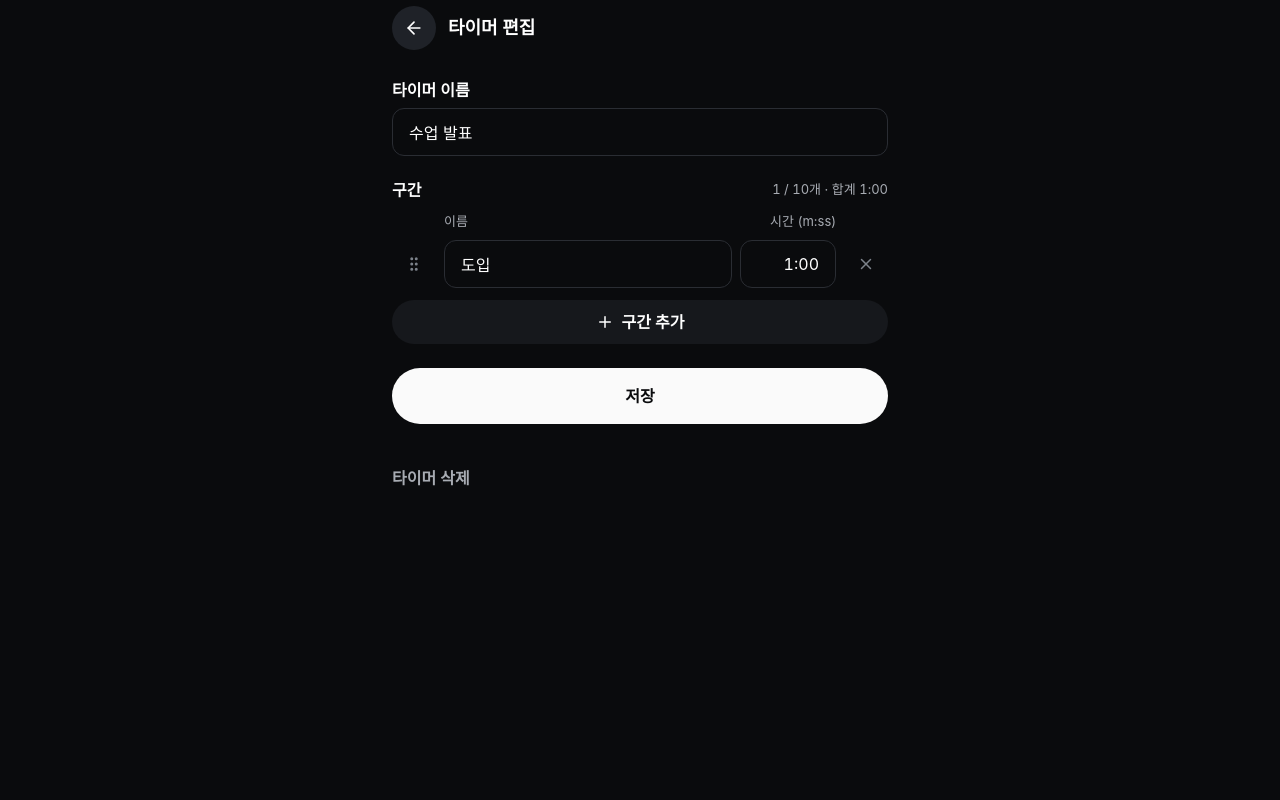
it: TimerEditor › keeps the timer when delete confirmation is canceled
Click the button "타이머 삭제" at (431, 478), box [392,456,470,500]
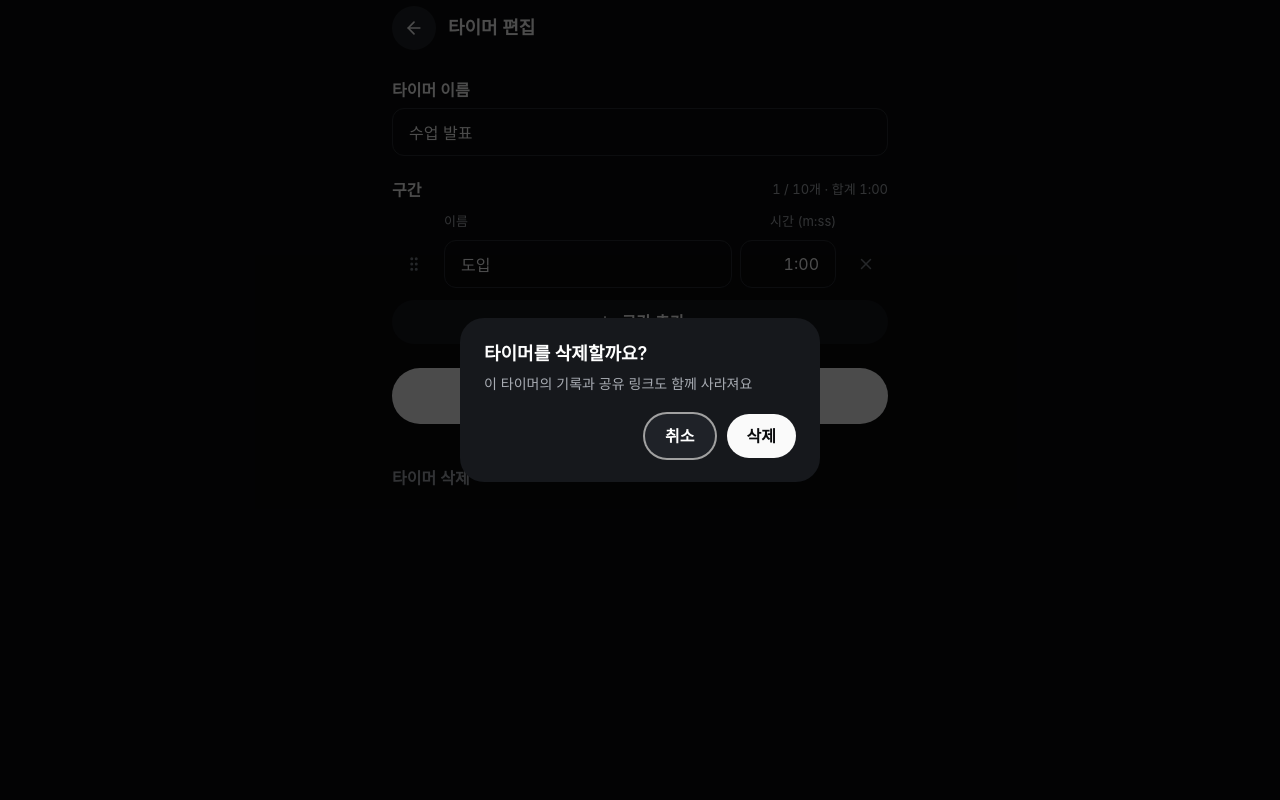
Click the button "취소" at (680, 436), box [645,414,715,458]
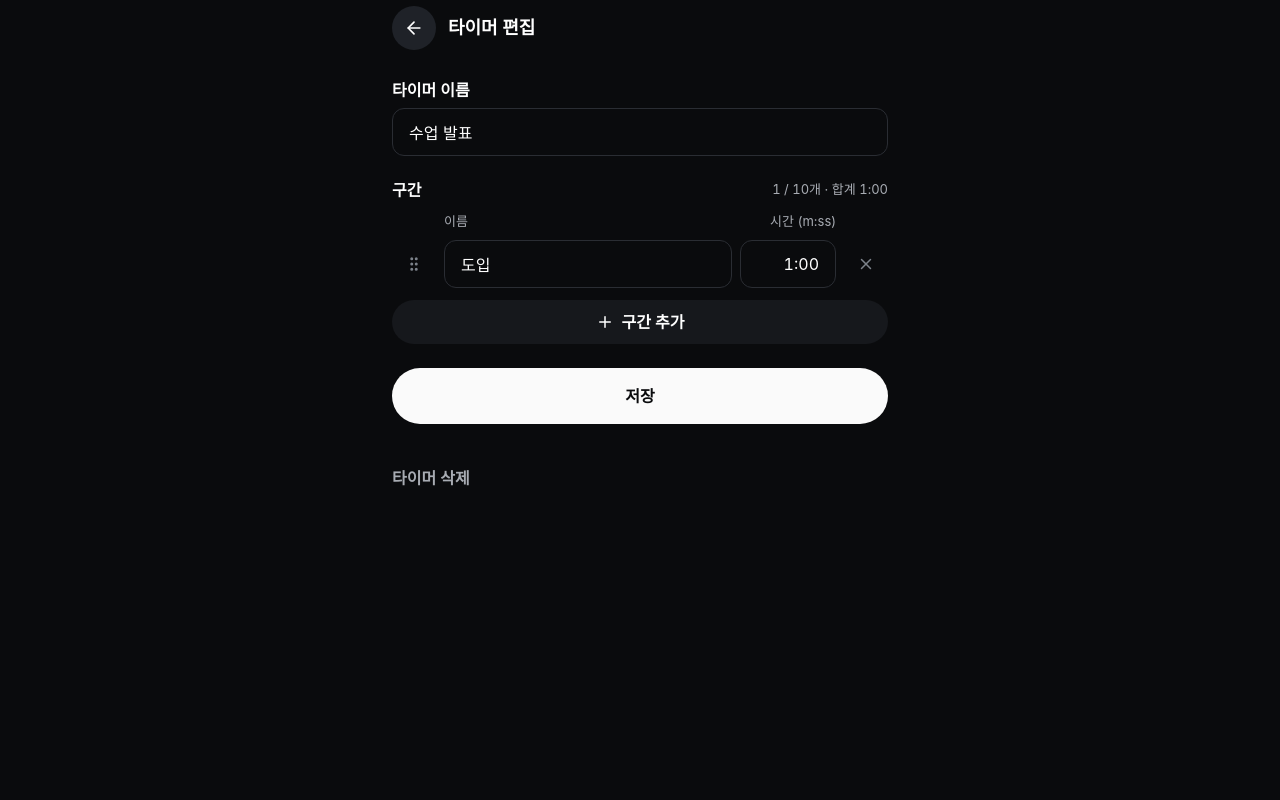
expect the dialog is gone: met
